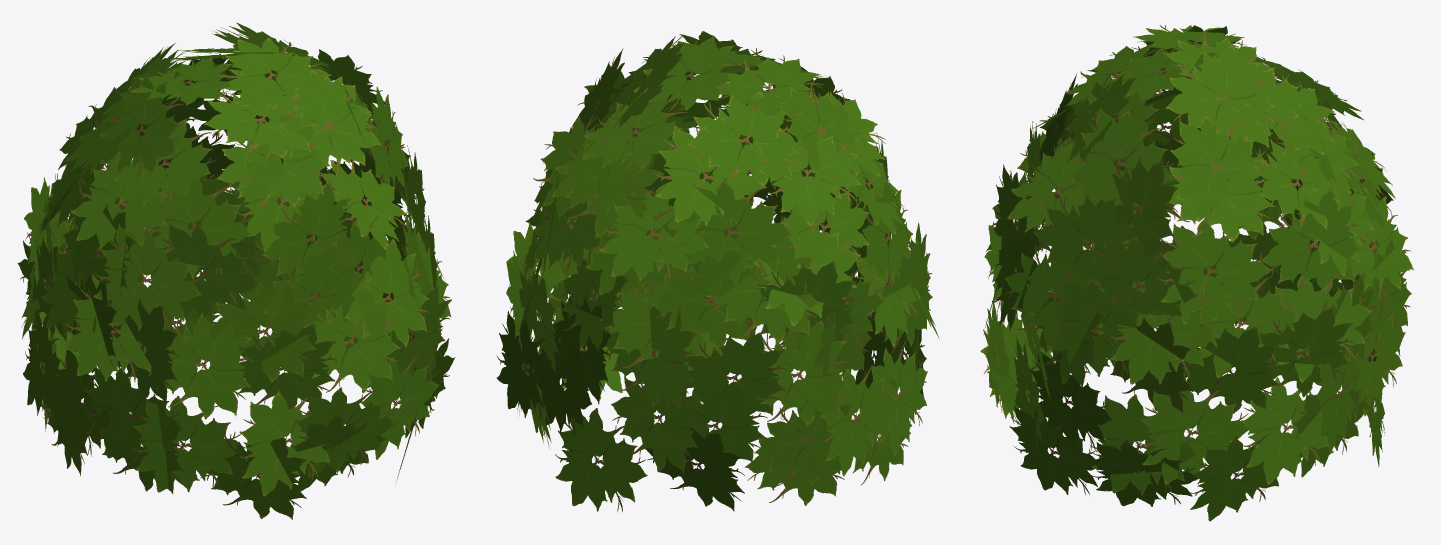
The model's file is Bush.FBX.
3 views of the same model, side by side, from view 1: azimuth 30°, elevation 25°; view 2: azimuth 150°, elevation 25°; view 3: azimuth 270°, elevation 25° (orthographic).
Visible parts, largest first — view 1: Plane001; view 2: Plane001; view 3: Plane001.
Part boxes in pixels (x1,y1,x2,y2): Plane001: (17, 22, 455, 519); Plane001: (496, 31, 939, 511); Plane001: (980, 25, 1413, 521).
Bounding box in the file's own units: 35.13 × 34.74 × 33.94.
